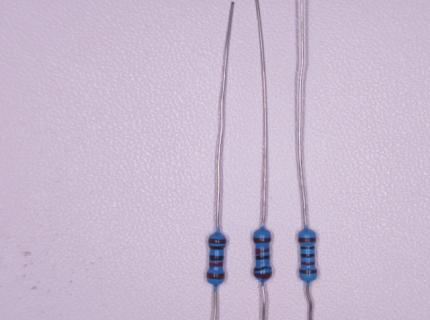Black band: (254, 266, 272, 271), (209, 255, 224, 260), (256, 255, 270, 260), (301, 253, 315, 258), (209, 246, 225, 249), (300, 246, 315, 249)
Brown band: (207, 272, 225, 279), (254, 272, 272, 279), (208, 238, 226, 244), (298, 237, 316, 243), (253, 238, 271, 243), (299, 269, 317, 274)
Red band: (255, 248, 270, 253), (209, 262, 223, 267), (301, 261, 315, 265)
